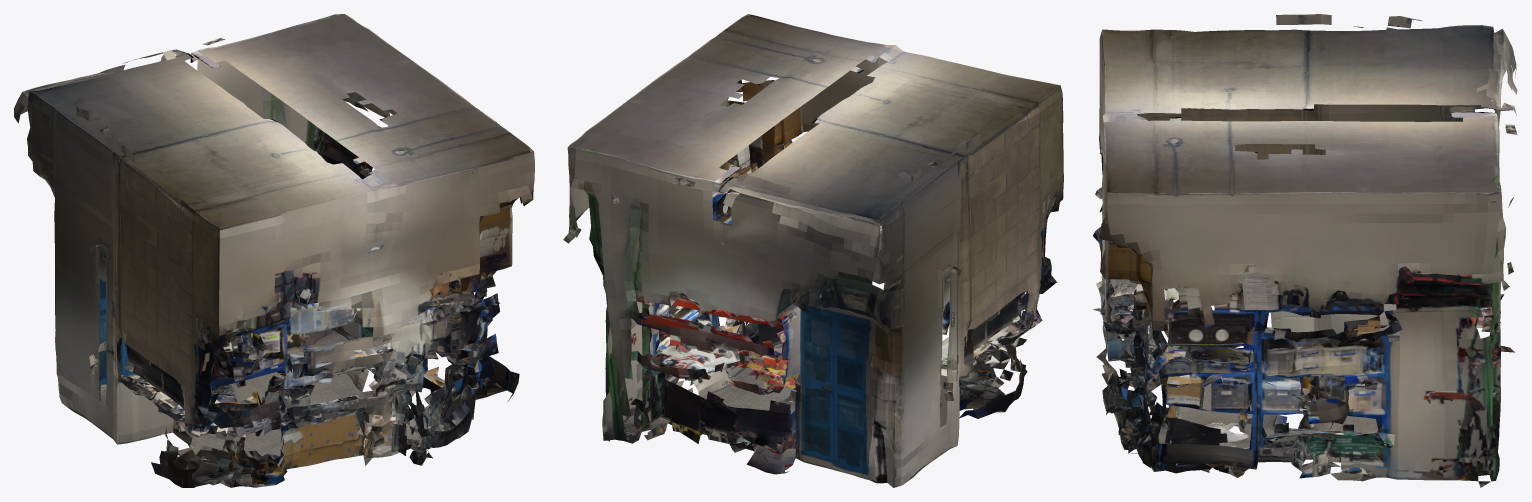
3 renders of one model, left to right at view 1: azimuth 30°, elevation 25°; view 2: azimuth 150°, elevation 25°; view 3: azimuth 270°, elevation 25°, orthographic. The views are drawn at different scales.
Visible parts, largest first — view 1: 3-M309A-IM; view 2: 3-M309A-IM; view 3: 3-M309A-IM.
Boxes of the visible parts, x1,y1,x2,y2 form: 3-M309A-IM: (14,14,534,487); 3-M309A-IM: (563,14,1063,487); 3-M309A-IM: (1093,14,1517,487).
Bounding box in the file's own units: 381 × 342 × 397.
Materials: 1 (1 with a texture image).
